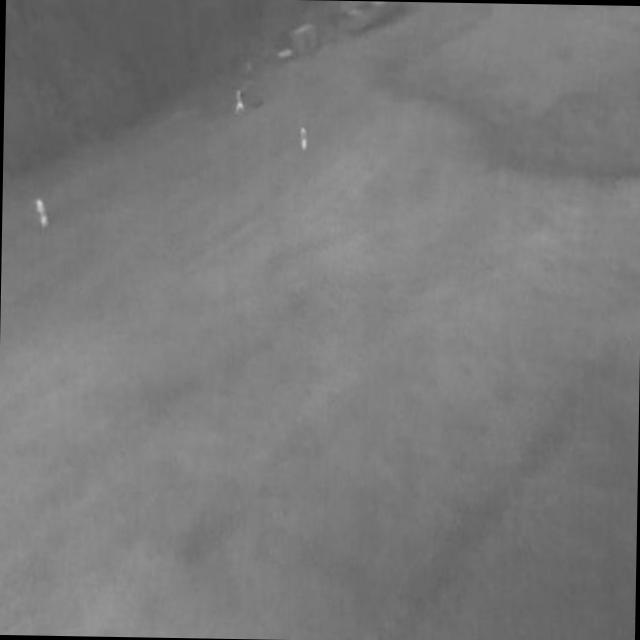person: (35, 199, 50, 229), (235, 88, 246, 114), (300, 127, 308, 152)
